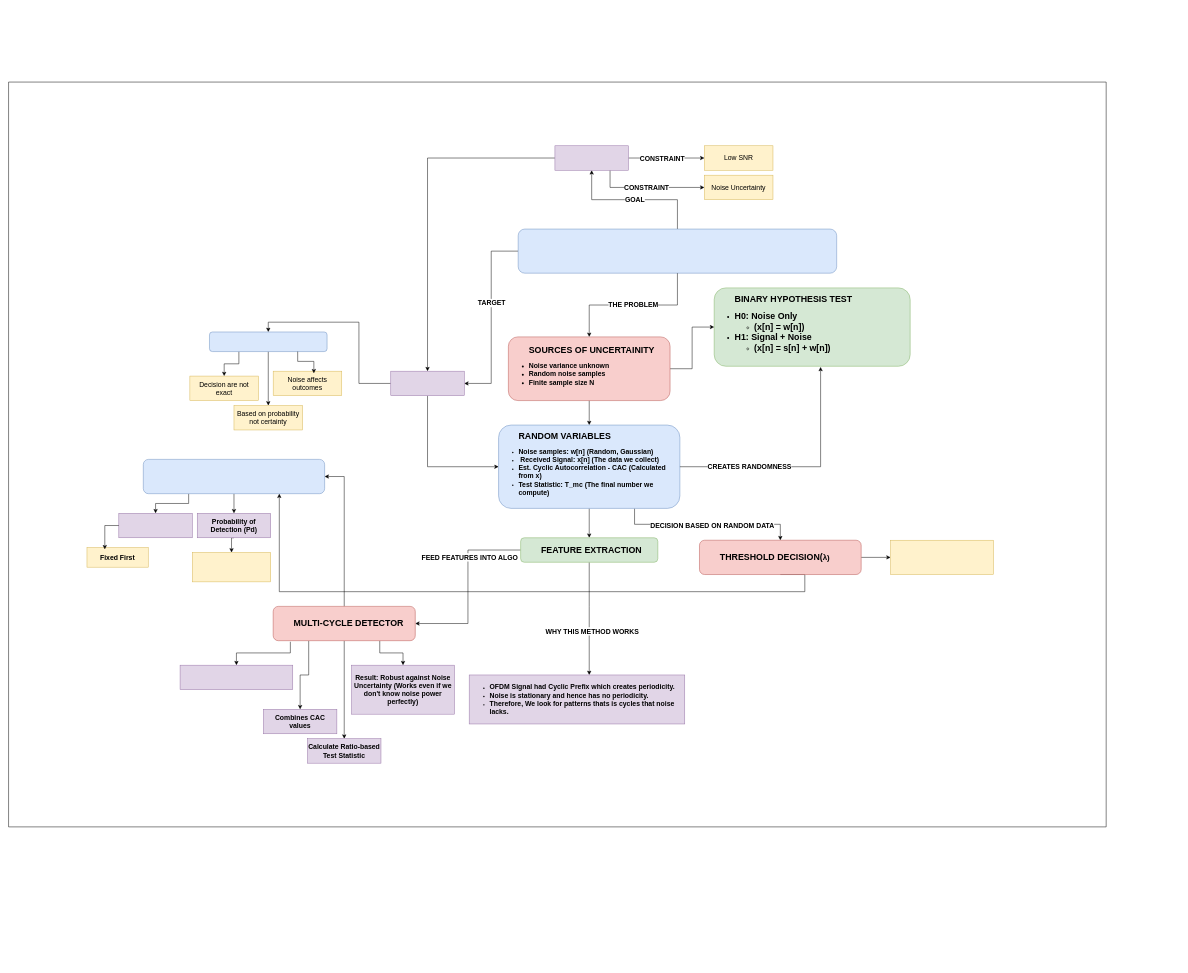
This 1188x973 diagram has some shape labels left out. Each missing label, with the centre of its shape:
COGNATIVE RADIO NETWORK: [677,251]
Evaluated under uncertainity: [231,567]
If T_mc < λ → Decide H₀ If T_mc ≥ λ → Decide H₁: [941,557]
OUTPUT AND METRICES: [234,476]
Primary User sending OFDM signals: [427,383]
Probabilistic Reasoning: [268,341]
Probability of False Alarm (Pf): [155,525]
Spectrum Sensing Problem: [591,157]
Use MULTIPLE cyclic frequencies (not just one): [236,677]
